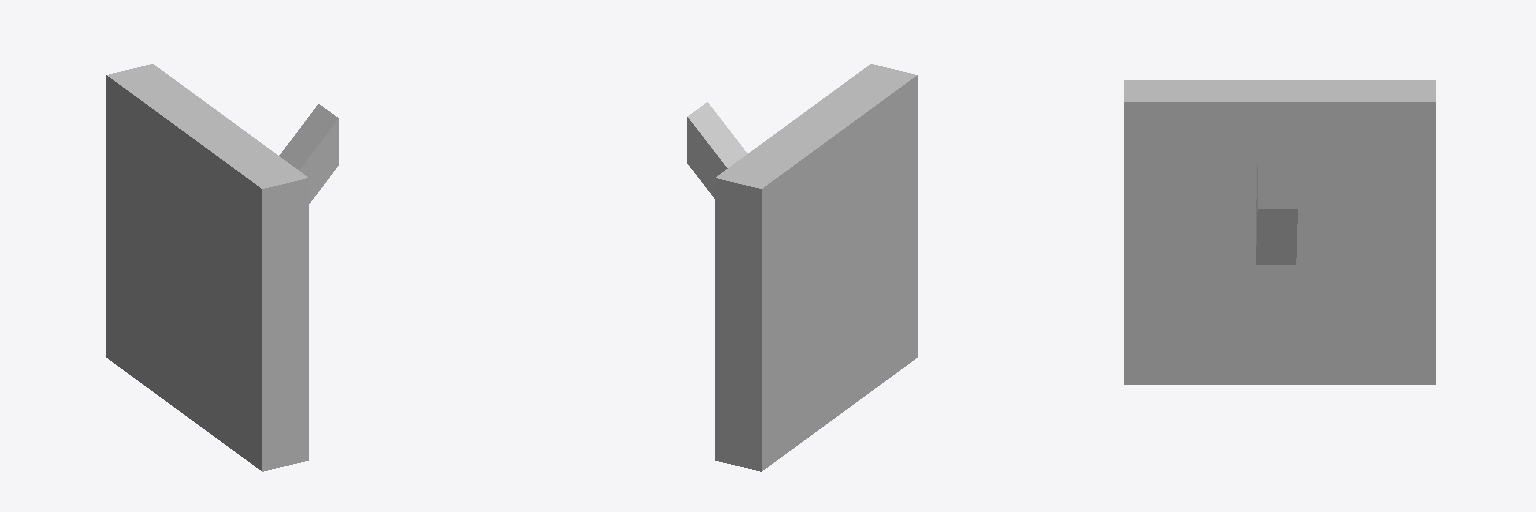
The model's file is Switch.obj.
The picture shows the model from 3 angles: view 1: azimuth 30°, elevation 25°; view 2: azimuth 150°, elevation 25°; view 3: azimuth 270°, elevation 25°; orthographic projection.
Visible parts, largest first — view 1: Cube.001; view 2: Cube.001; view 3: Cube.001.
Boxes of the visible parts, x1=… form: Cube.001: x1=106, y1=64, x2=338, y2=471; Cube.001: x1=687, y1=64, x2=917, y2=471; Cube.001: x1=1124, y1=80, x2=1435, y2=384.
Size of the model in its own units: 0.1336 by 0.2522 by 0.2522.